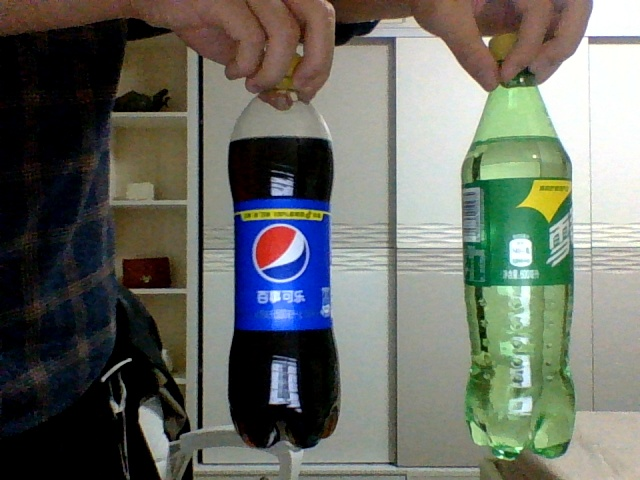Cola: (227, 52, 341, 447)
Sprite: (458, 29, 576, 462)
